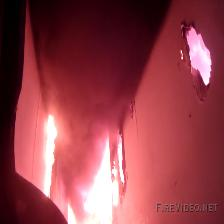fire: (33, 94, 140, 224), (173, 4, 224, 101)
